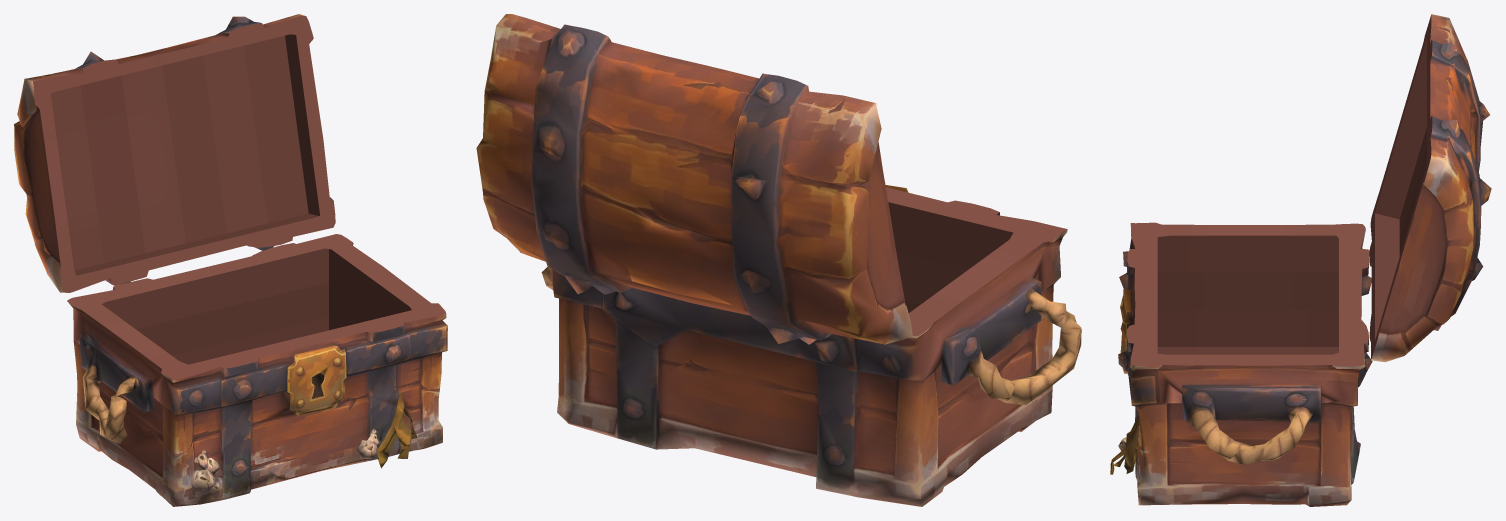
File: chest-open.glb
3 renders of one model, left to right at view 1: azimuth 30°, elevation 25°; view 2: azimuth 150°, elevation 25°; view 3: azimuth 270°, elevation 25°, orthographic. The views are drawn at different scales.
Parts seen in each view (by area): view 1: chest-open; view 2: chest-open; view 3: chest-open.
Part boxes in pixels (box(x1,y1,x2,y2)): chest-open: box(14, 14, 447, 506); chest-open: box(476, 14, 1081, 506); chest-open: box(1110, 14, 1491, 506).
Size of the model in its own units: 0.85 by 0.7754 by 0.7446.
Materials: 1 (1 with a texture image).
